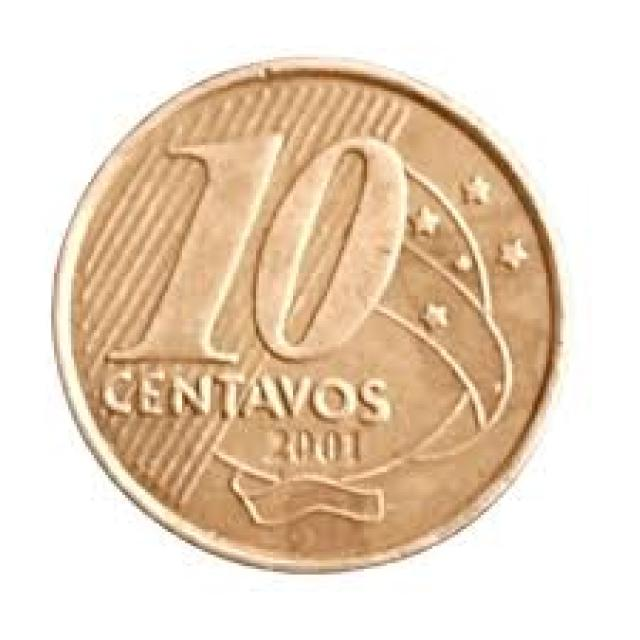10 cent: (58, 57, 559, 564)
